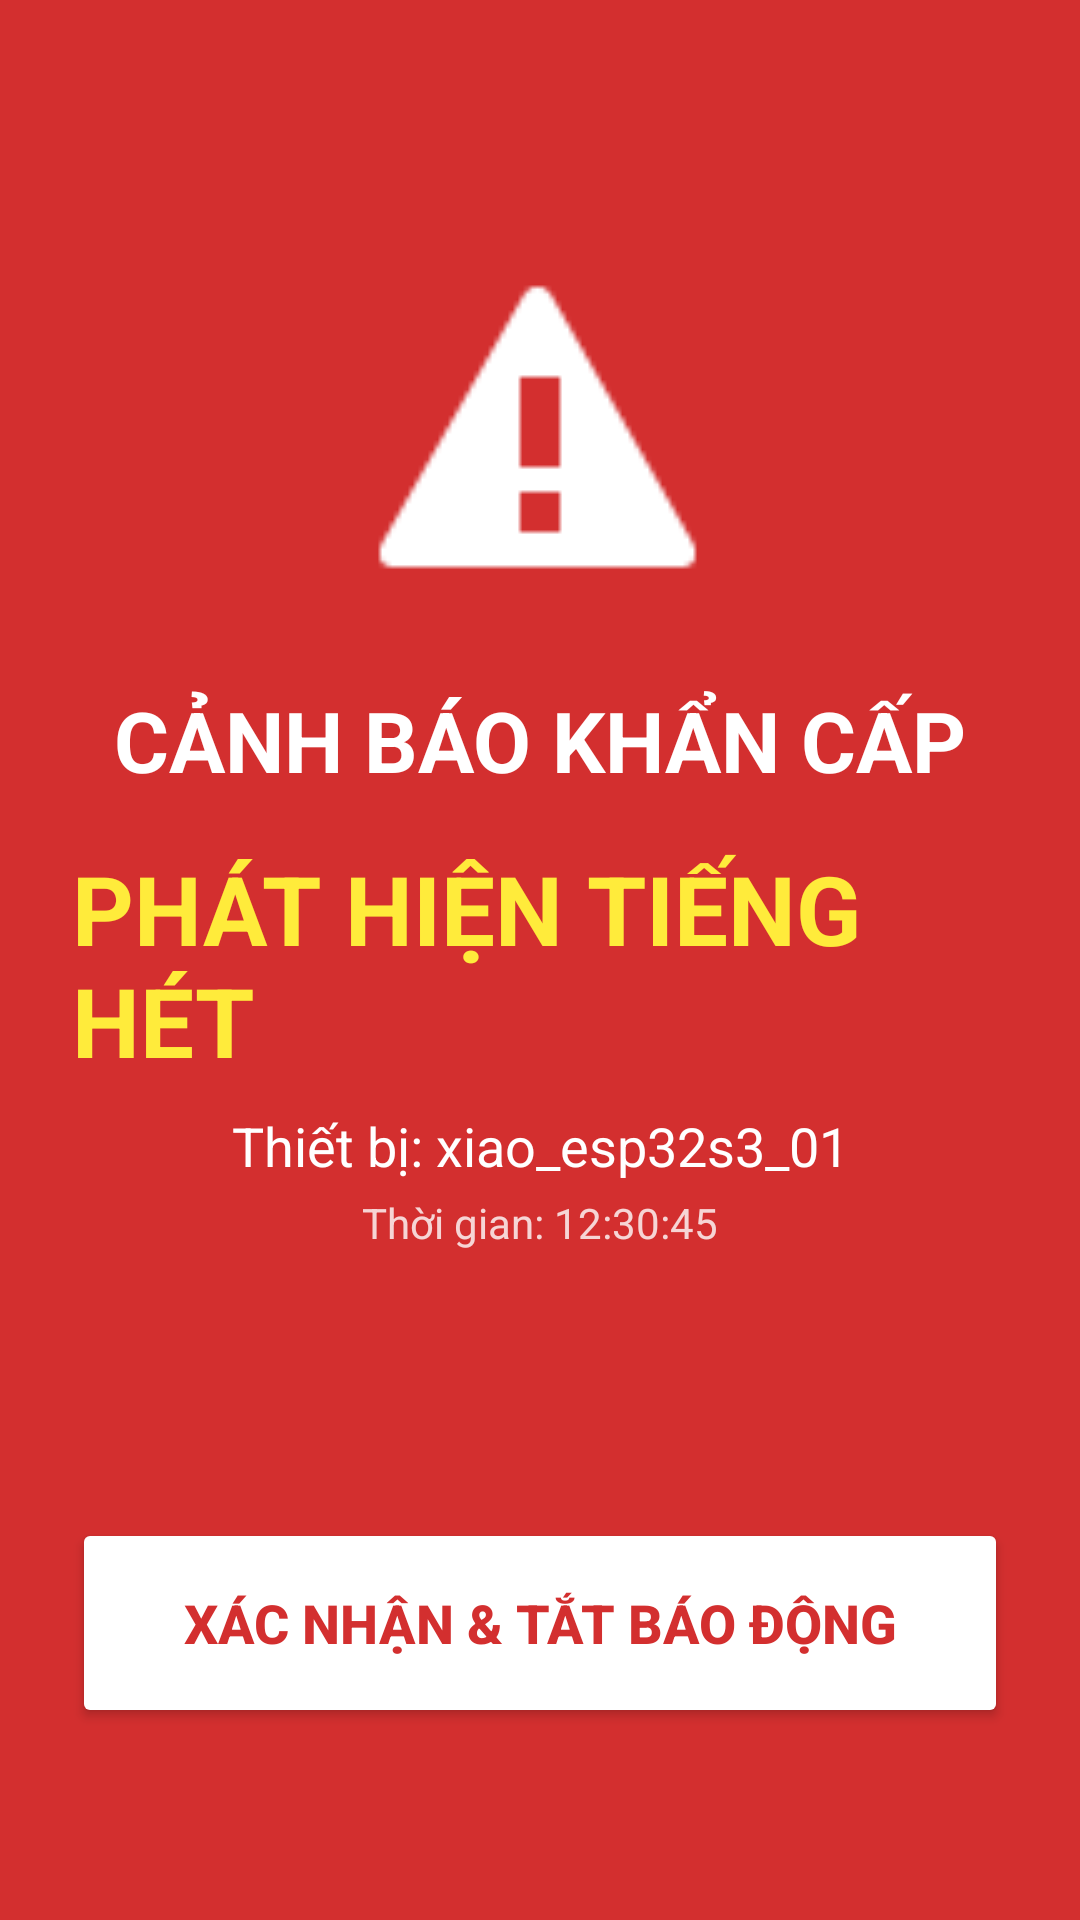

Screen size 1080*1920. Icon name, then its box in pixels as (x1, y1, x2, y2):
warning: (378, 285, 697, 569)
